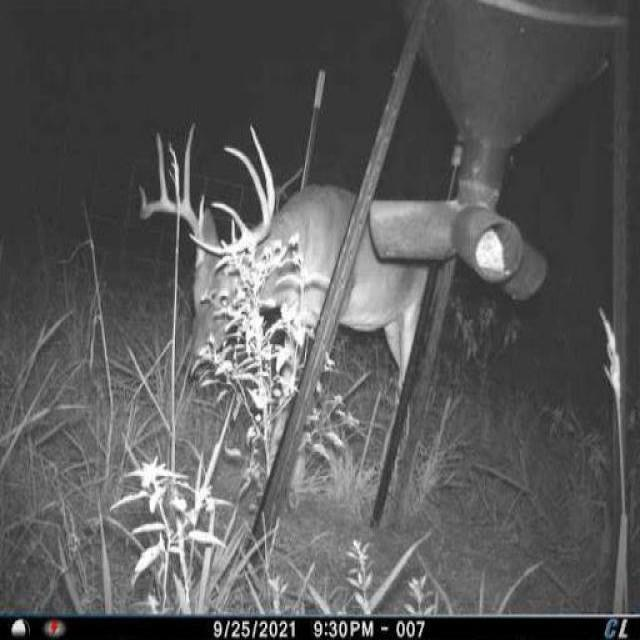deer: (128, 110, 462, 511)
